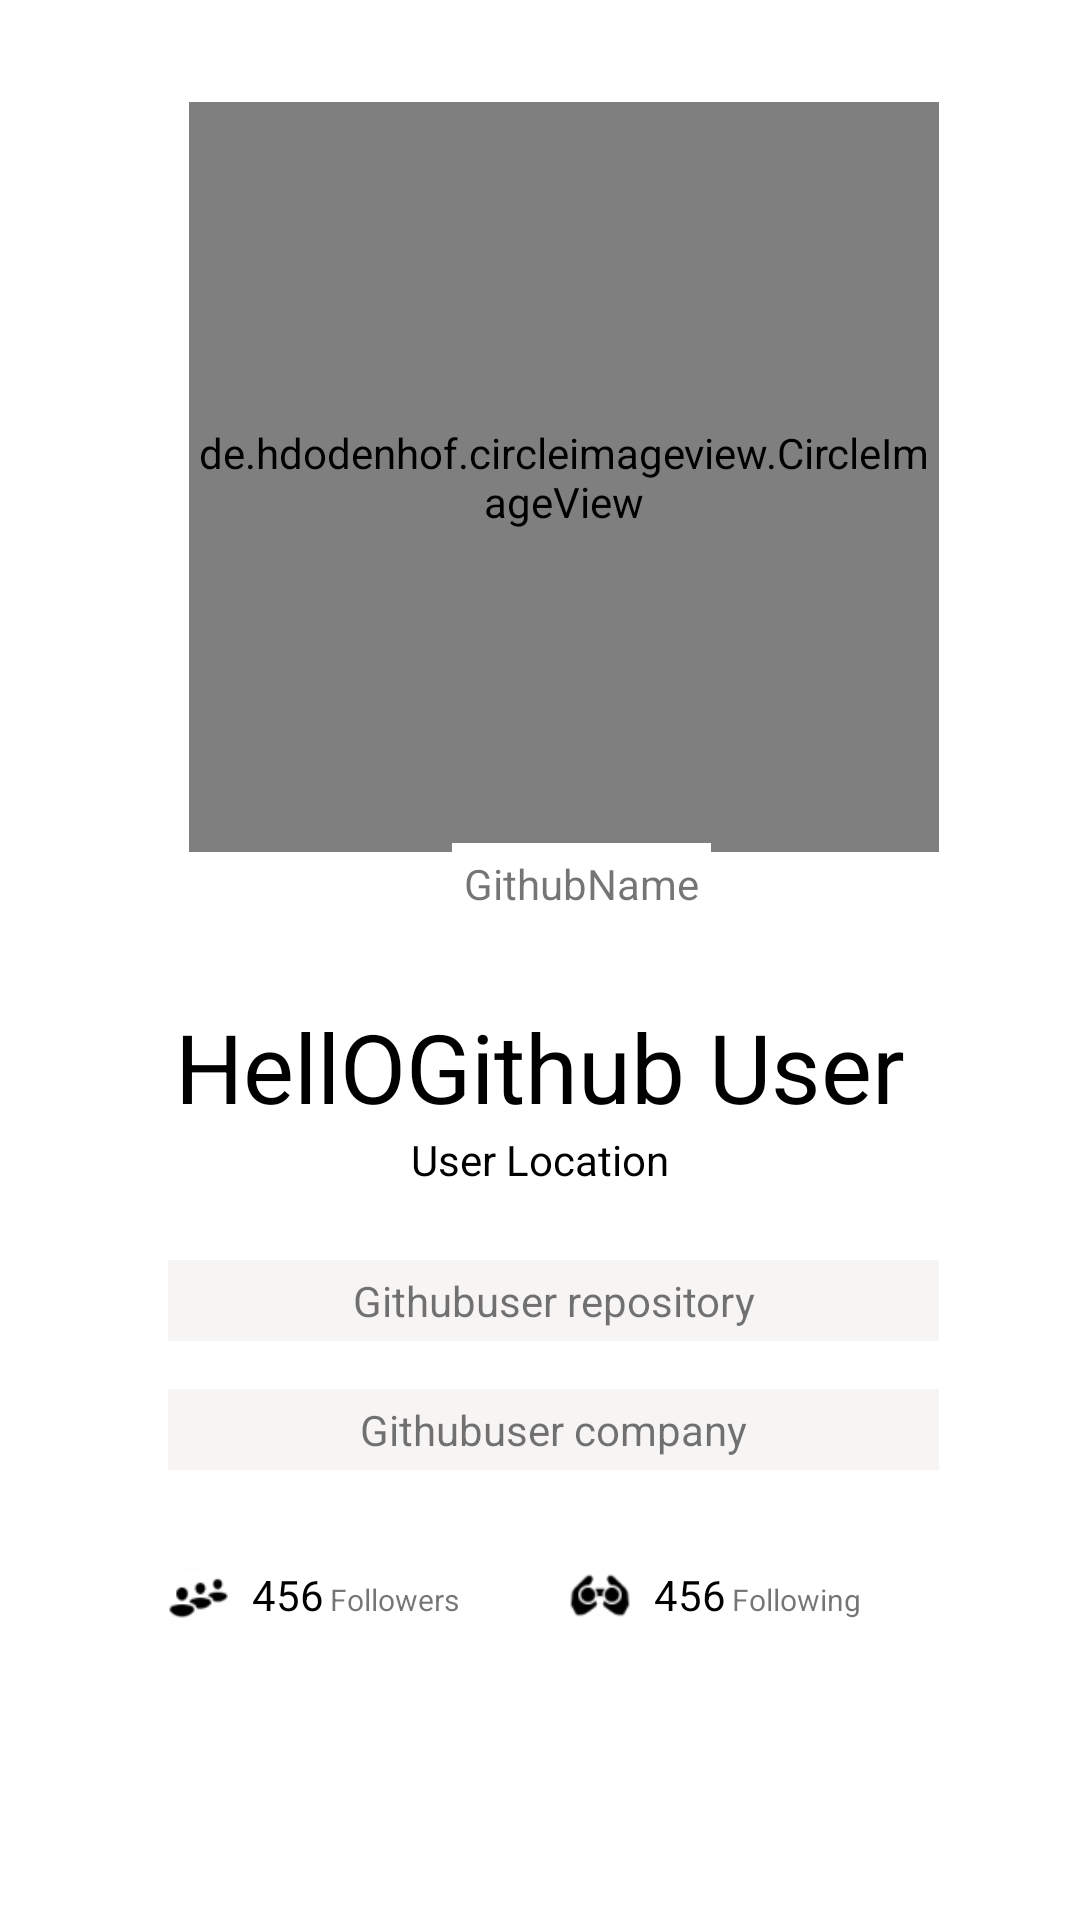

Screen size 1080 x 1920. Icon name, then its box in pixels as (x1, y1, x2, y2):
collections people: (169, 1579, 228, 1618)
